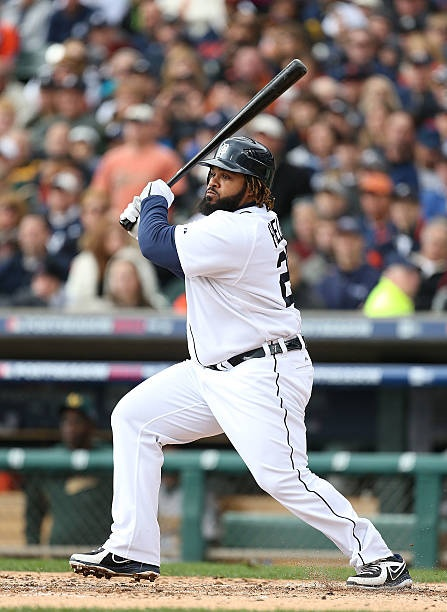bita: (162, 55, 300, 187)
